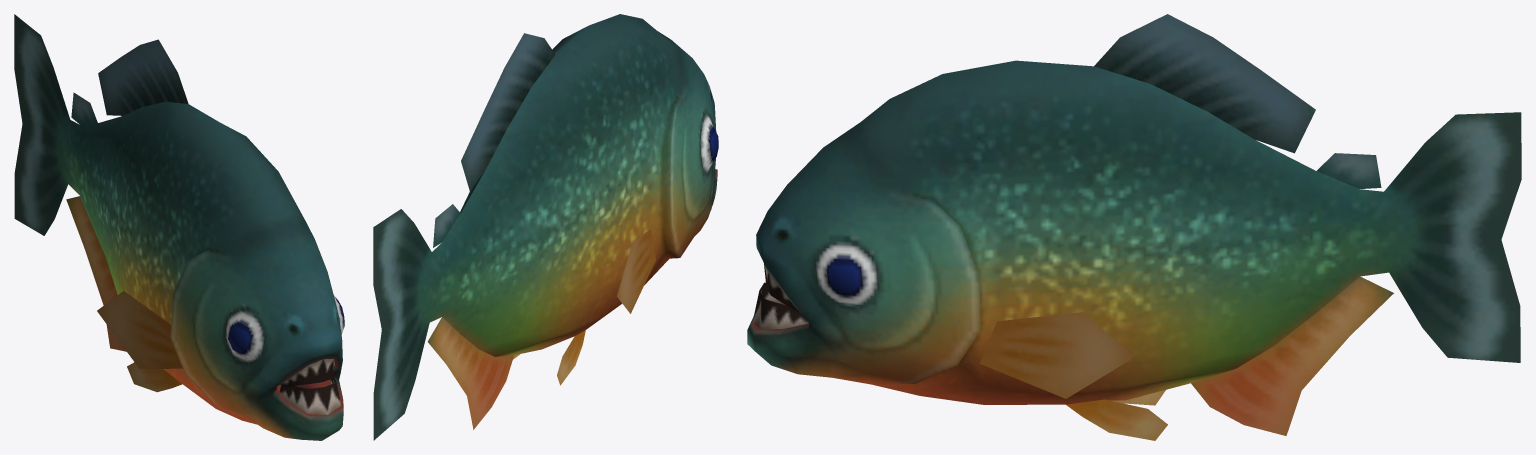
File: FishPirania.glb
3 renders of one model, left to right at view 1: azimuth 30°, elevation 25°; view 2: azimuth 150°, elevation 25°; view 3: azimuth 270°, elevation 25°, orthographic. The views are drawn at different scales.
Visible parts, largest first — view 1: FishPirania__mPirania; view 2: FishPirania__mPirania; view 3: FishPirania__mPirania.
Boxes of the visible parts, left/top/right/bottom form: FishPirania__mPirania: left=14, top=14, right=344, bottom=440; FishPirania__mPirania: left=373, top=14, right=718, bottom=440; FishPirania__mPirania: left=747, top=14, right=1521, bottom=440.
Size of the model in its own units: 1.41 by 3.09 by 5.13.
Materials: 1 (1 with a texture image).
